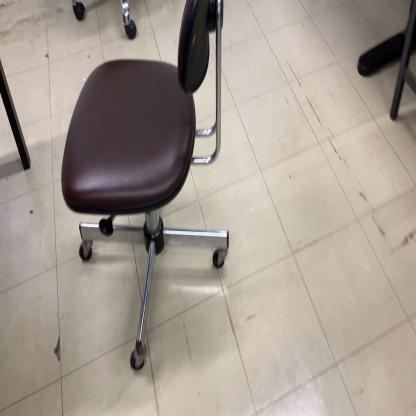chair: (60, 0, 233, 372)
